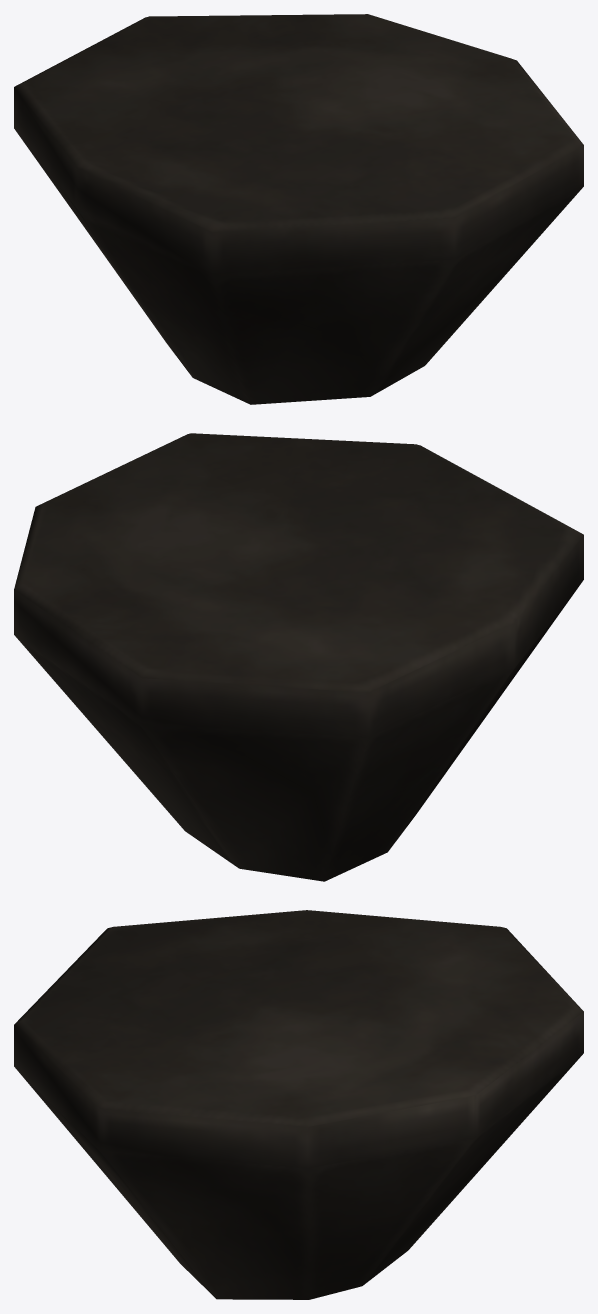
The model's file is StepStone3.FBX.
3 views of the same model, one above another, from view 1: azimuth 30°, elevation 25°; view 2: azimuth 150°, elevation 25°; view 3: azimuth 270°, elevation 25° (orthographic). The views are drawn at different scales.
Visible parts, largest first — view 1: StepStone3; view 2: StepStone3; view 3: StepStone3.
Part boxes in pixels (x1,y1,x2,y2): StepStone3: (14,14,583,404); StepStone3: (14,433,583,881); StepStone3: (14,910,583,1299).
Size of the model in its own units: 3.43 by 1.81 by 3.82.
